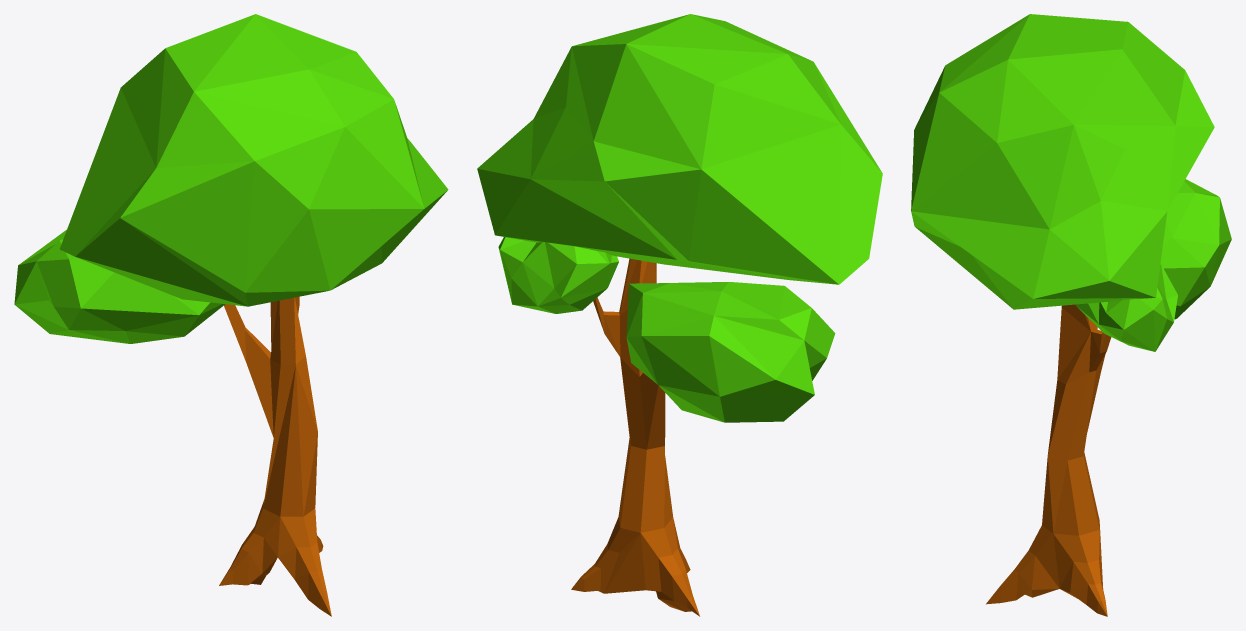
File: Tree 1.FBX
3 views of the same model, side by side, from view 1: azimuth 30°, elevation 25°; view 2: azimuth 150°, elevation 25°; view 3: azimuth 270°, elevation 25° (orthographic). The views are drawn at different scales.
Visible parts, largest first — view 1: tree; view 2: tree; view 3: tree.
Boxes of the visible parts, bbox=[...] form: tree: bbox=[14, 14, 448, 616]; tree: bbox=[477, 14, 882, 616]; tree: bbox=[911, 14, 1231, 616].
Size of the model in its own units: 147 by 217 by 114.
